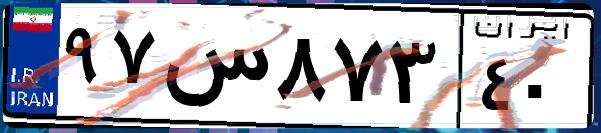0: (525, 38, 570, 115)
3: (385, 28, 445, 110)
4: (475, 38, 525, 113)
7: (330, 28, 385, 110), (110, 28, 158, 98)
8: (270, 28, 330, 110)
9: (57, 26, 110, 100)
س: (158, 20, 270, 120)
